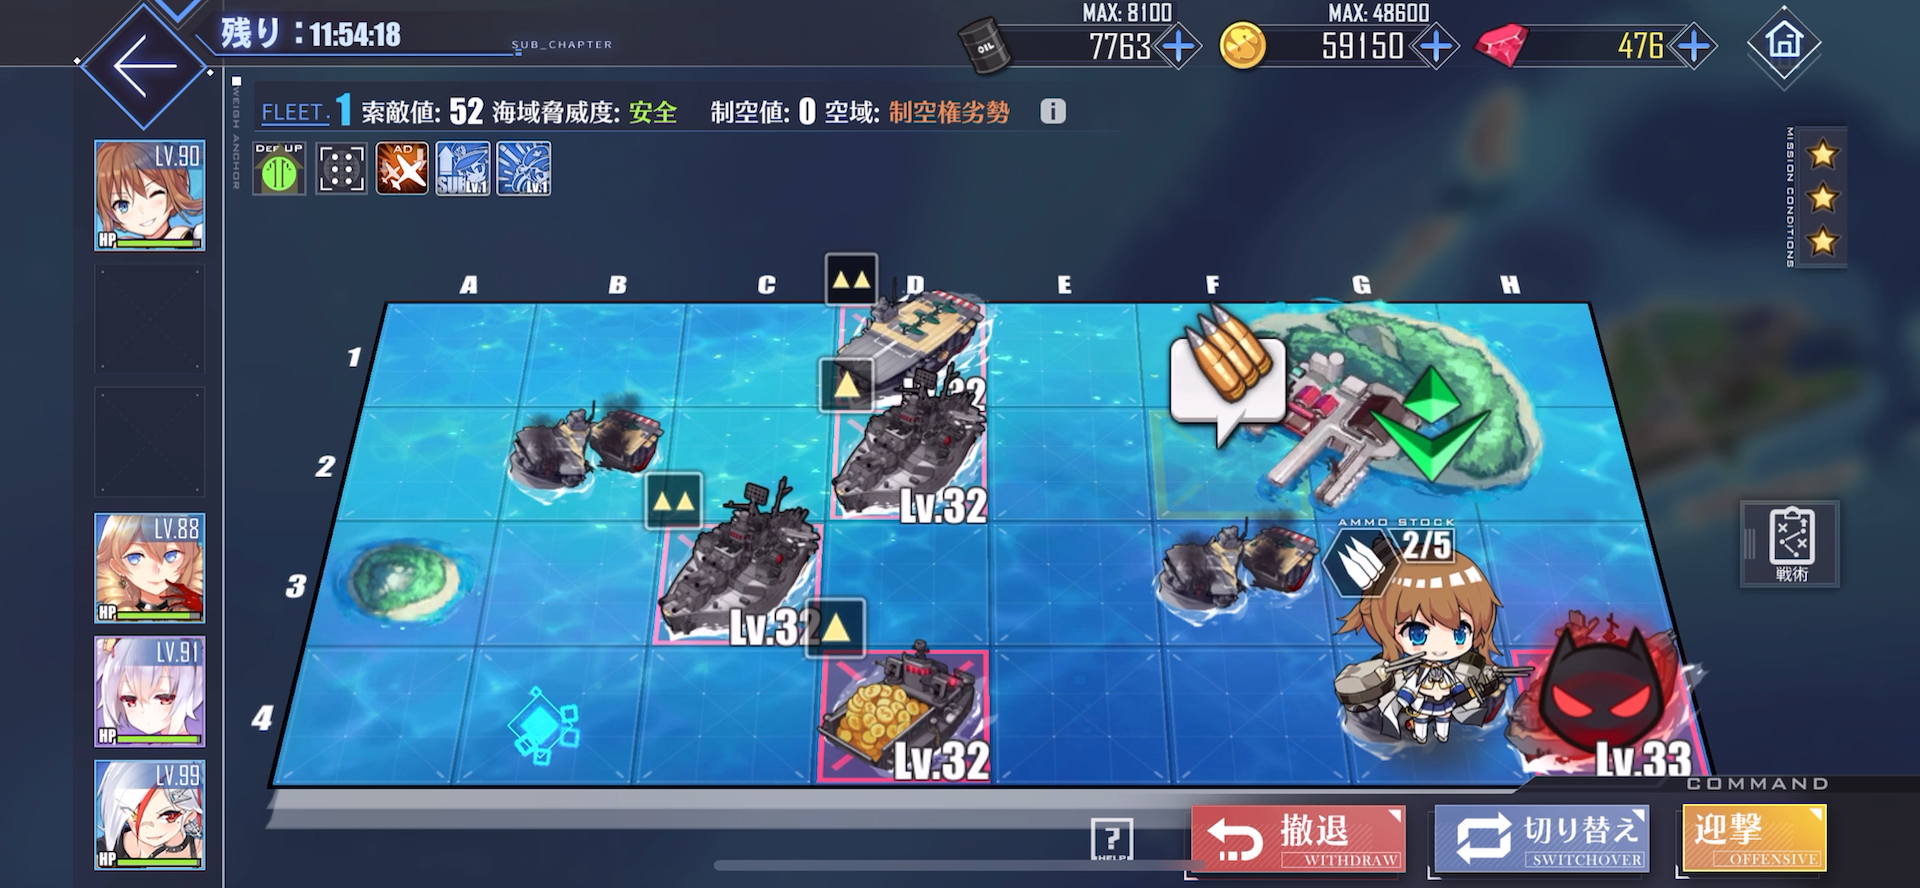boss: (1498, 611, 1701, 770)
